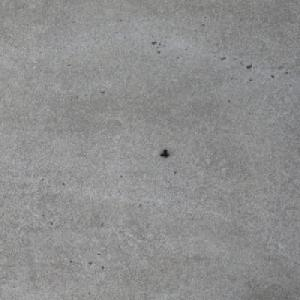BoltWasher: (159, 149, 170, 157)
